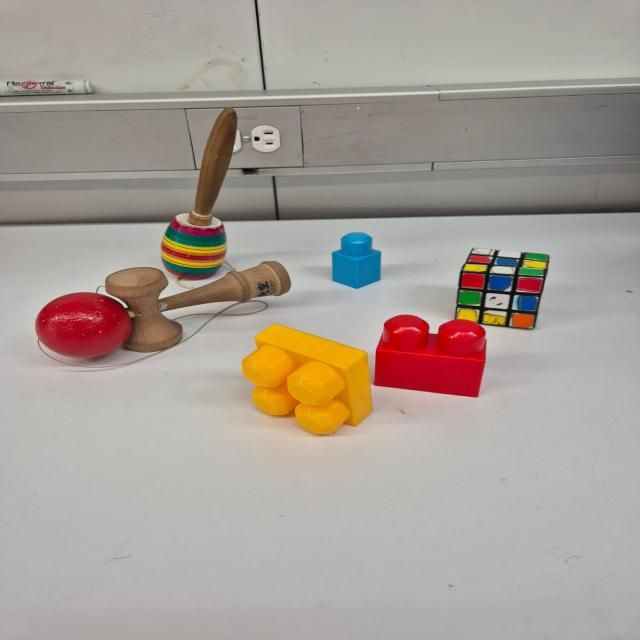balero: (162, 109, 240, 278)
balero ball: (34, 260, 294, 371)
lego 2: (371, 314, 484, 399)
lego 4: (245, 321, 373, 430)
lego_1: (331, 233, 381, 289)
rubick: (454, 246, 551, 330)
